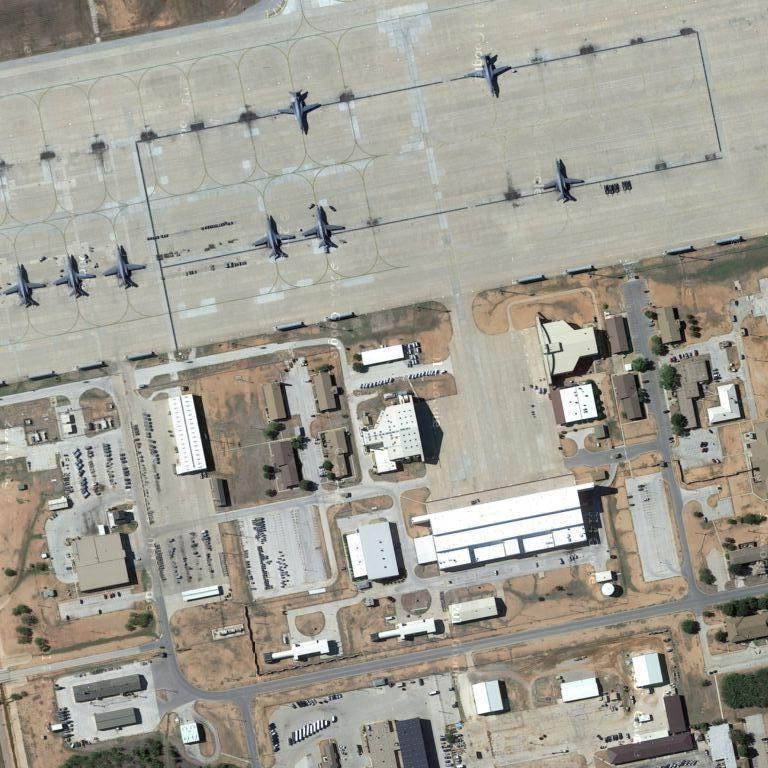B-1B: (540, 154, 587, 209), (302, 200, 347, 255), (279, 83, 323, 139), (254, 209, 300, 262), (1, 260, 46, 311), (105, 241, 147, 294), (470, 48, 512, 100), (55, 250, 96, 303)
